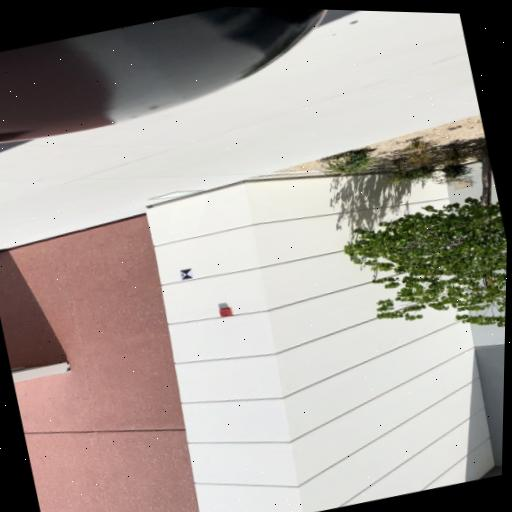target6: (179, 268, 193, 280)
